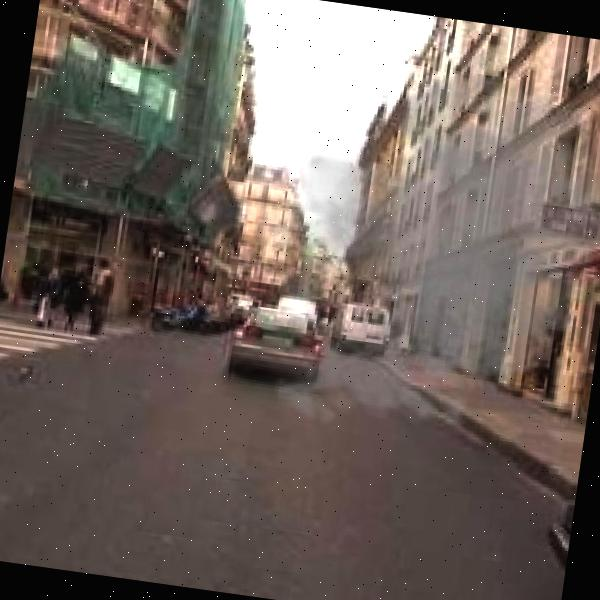smoke: (202, 14, 600, 469)
